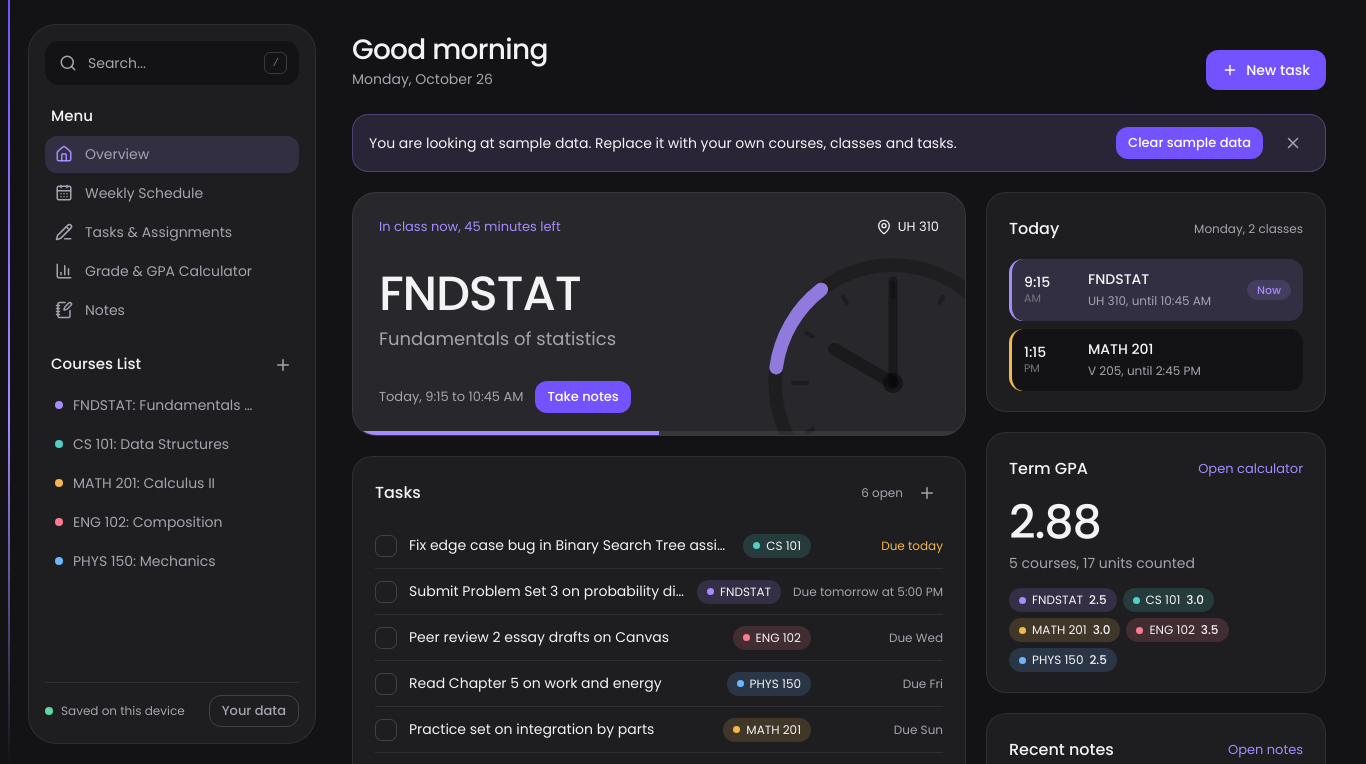
Test: Notes › starts a note for the class in session from the hero
This screenshot has width=1366, height=764.
Click the button "Take notes".
click(583, 397)  # box [535,381,631,413]
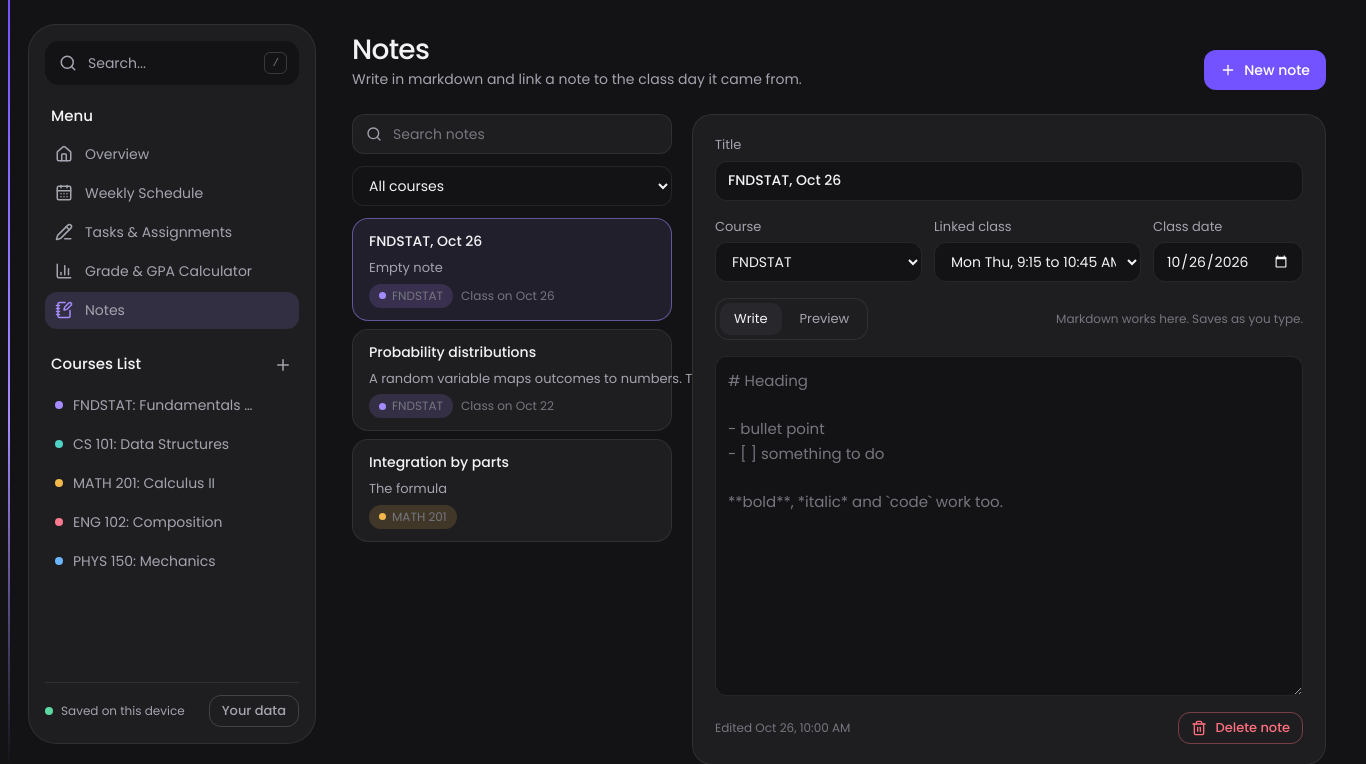
Now the field labelled "Title" holds "FNDSTAT, Oct 26", box [715,160,1303,200]
Now the dropdown labelled "Linked class" shows "Mon Thu, 9:15 to 10:45 AM", box [934,242,1141,282]
